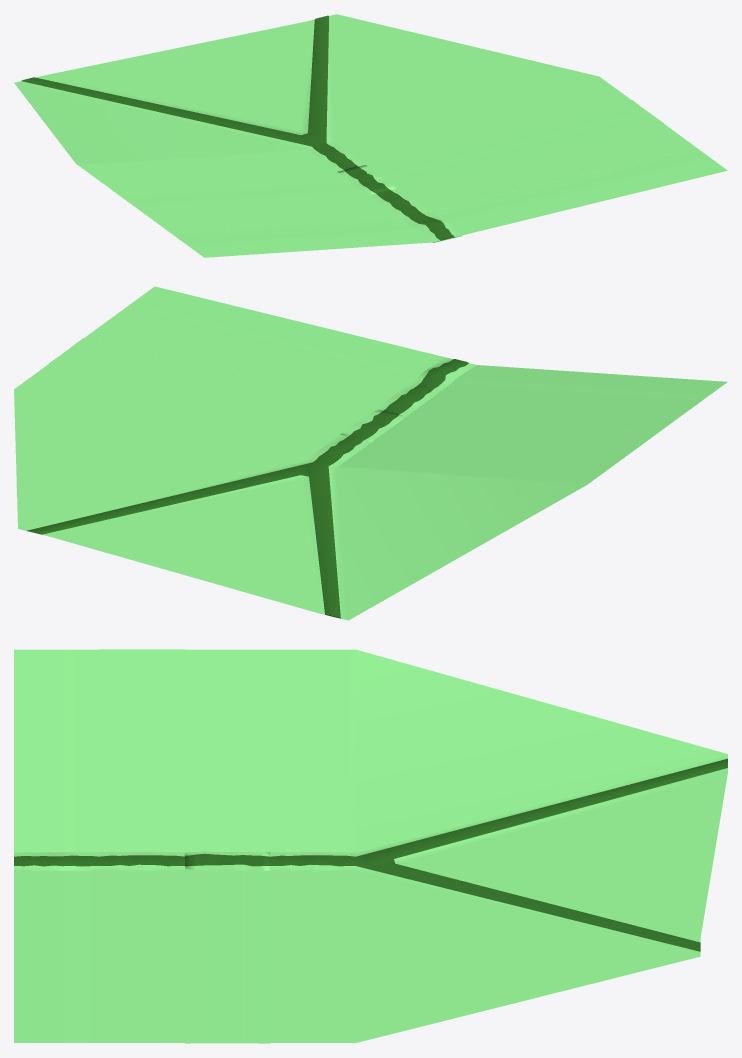
File: paths.fbx
3 views of the same model, one above another, from view 1: azimuth 30°, elevation 25°; view 2: azimuth 150°, elevation 25°; view 3: azimuth 270°, elevation 25° (orthographic). The views are drawn at different scales.
Parts seen in each view (by area): view 1: pathsplit, path1, path2, path3; view 2: pathsplit, path3, path2, path1; view 3: pathsplit, path3, path2, path1.
Part boxes in pixels (x1=…): pathsplit: x1=14, y1=14, x2=630, y2=187; path1: x1=173, y1=147, x2=727, y2=257; path2: x1=140, y1=123, x2=695, y2=234; path3: x1=108, y1=100, x2=663, y2=210; pathsplit: x1=14, y1=363, x2=621, y2=620; path3: x1=49, y1=338, x2=656, y2=458; path2: x1=84, y1=312, x2=691, y2=433; path1: x1=120, y1=286, x2=727, y2=407; pathsplit: x1=270, y1=649, x2=727, y2=1042; path3: x1=184, y1=649, x2=270, y2=1043; path2: x1=99, y1=649, x2=184, y2=1042; path1: x1=14, y1=649, x2=99, y2=1042.
Bounding box in the file's own units: 18357 × 1403 × 16288.
